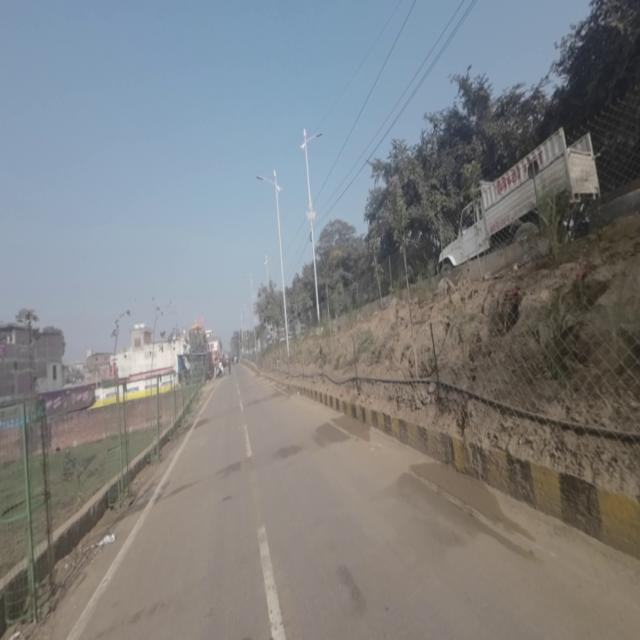Garbage: (97, 528, 119, 554)
